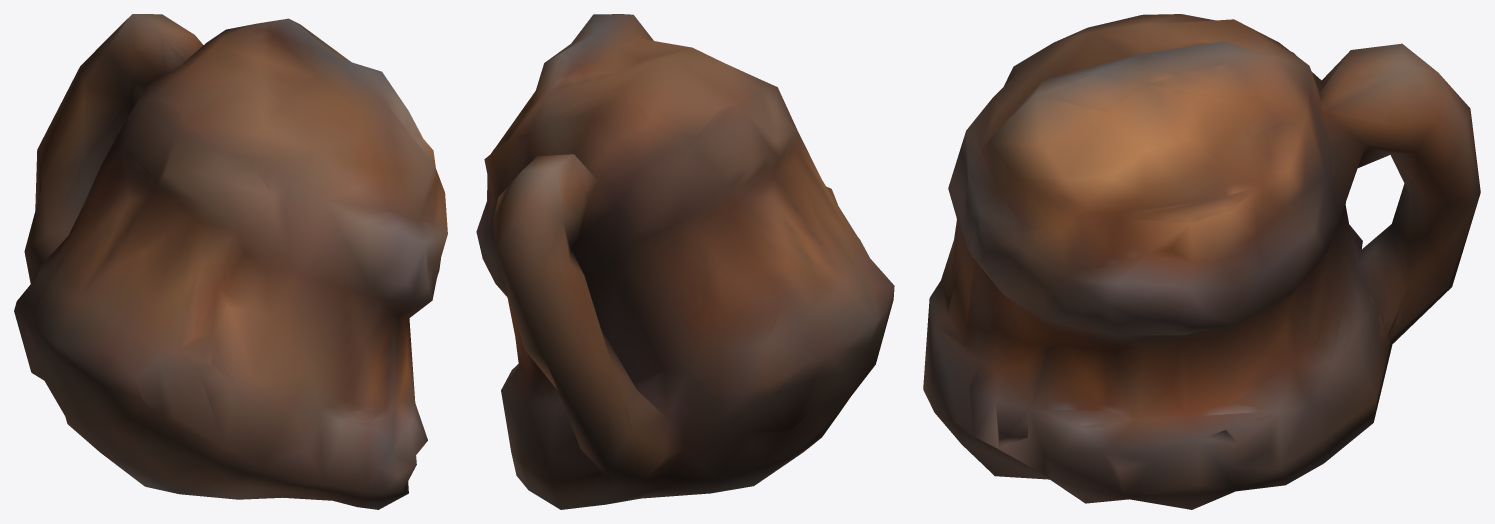
Rendered from drink_deep_stout.glb.
The picture shows the model from 3 angles, left to right: view 1: azimuth 30°, elevation 25°; view 2: azimuth 150°, elevation 25°; view 3: azimuth 270°, elevation 25°; orthographic projection. The views are drawn at different scales.
Parts seen in each view (by area): view 1: model; view 2: model; view 3: model.
Boxes of the visible parts, x1,y1,x2,y2 form: model: [14, 14, 447, 509]; model: [476, 14, 894, 509]; model: [923, 14, 1480, 509].
Bounding box in the file's own units: 0.3223 × 0.3502 × 0.3974.
1 material, 1 textured.
